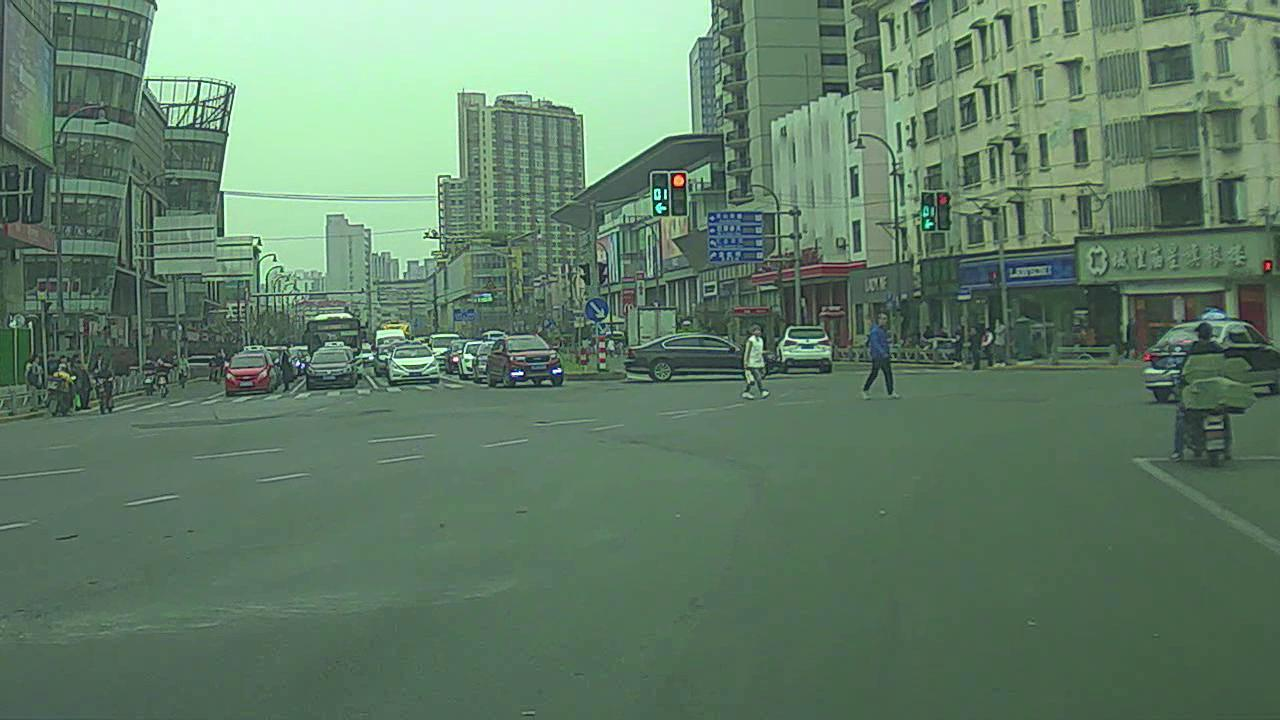traffic_light: (935, 188, 957, 232), (652, 170, 671, 216), (672, 170, 690, 214), (920, 188, 935, 231)
